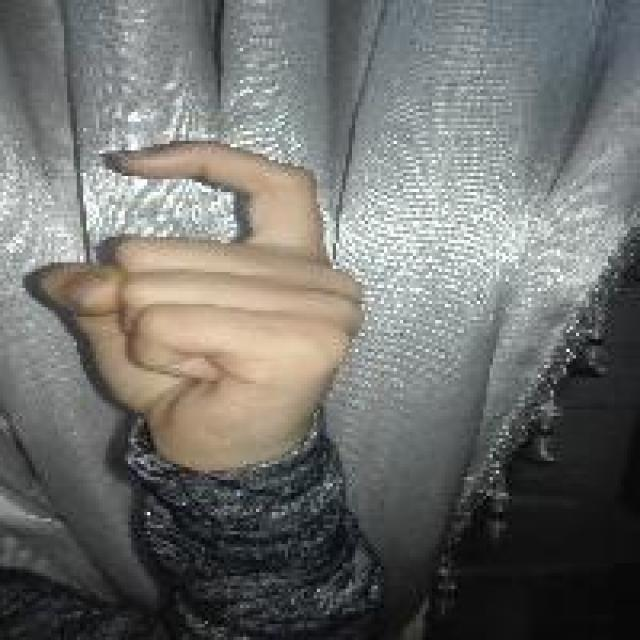X: (37, 136, 366, 459)
